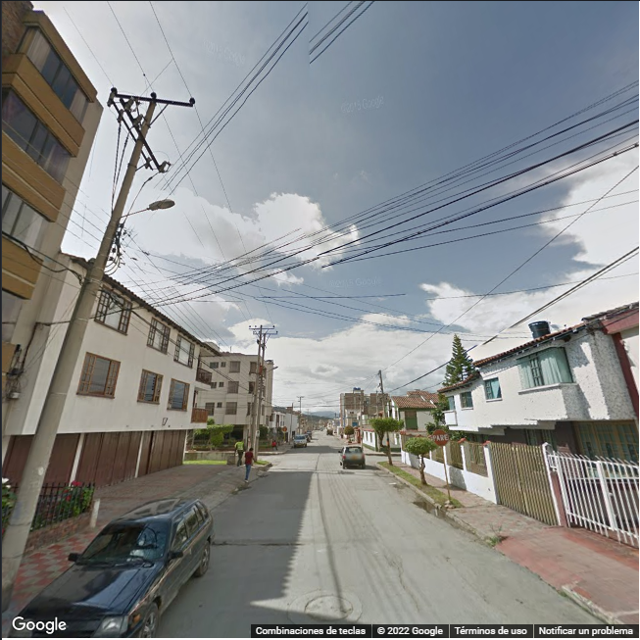D00: (439, 548, 505, 613), (392, 564, 424, 614)
